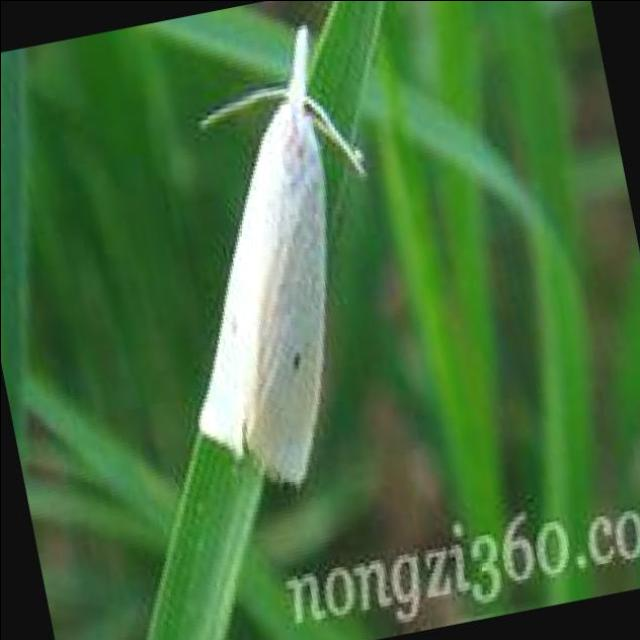stem borer: (197, 24, 363, 483)
